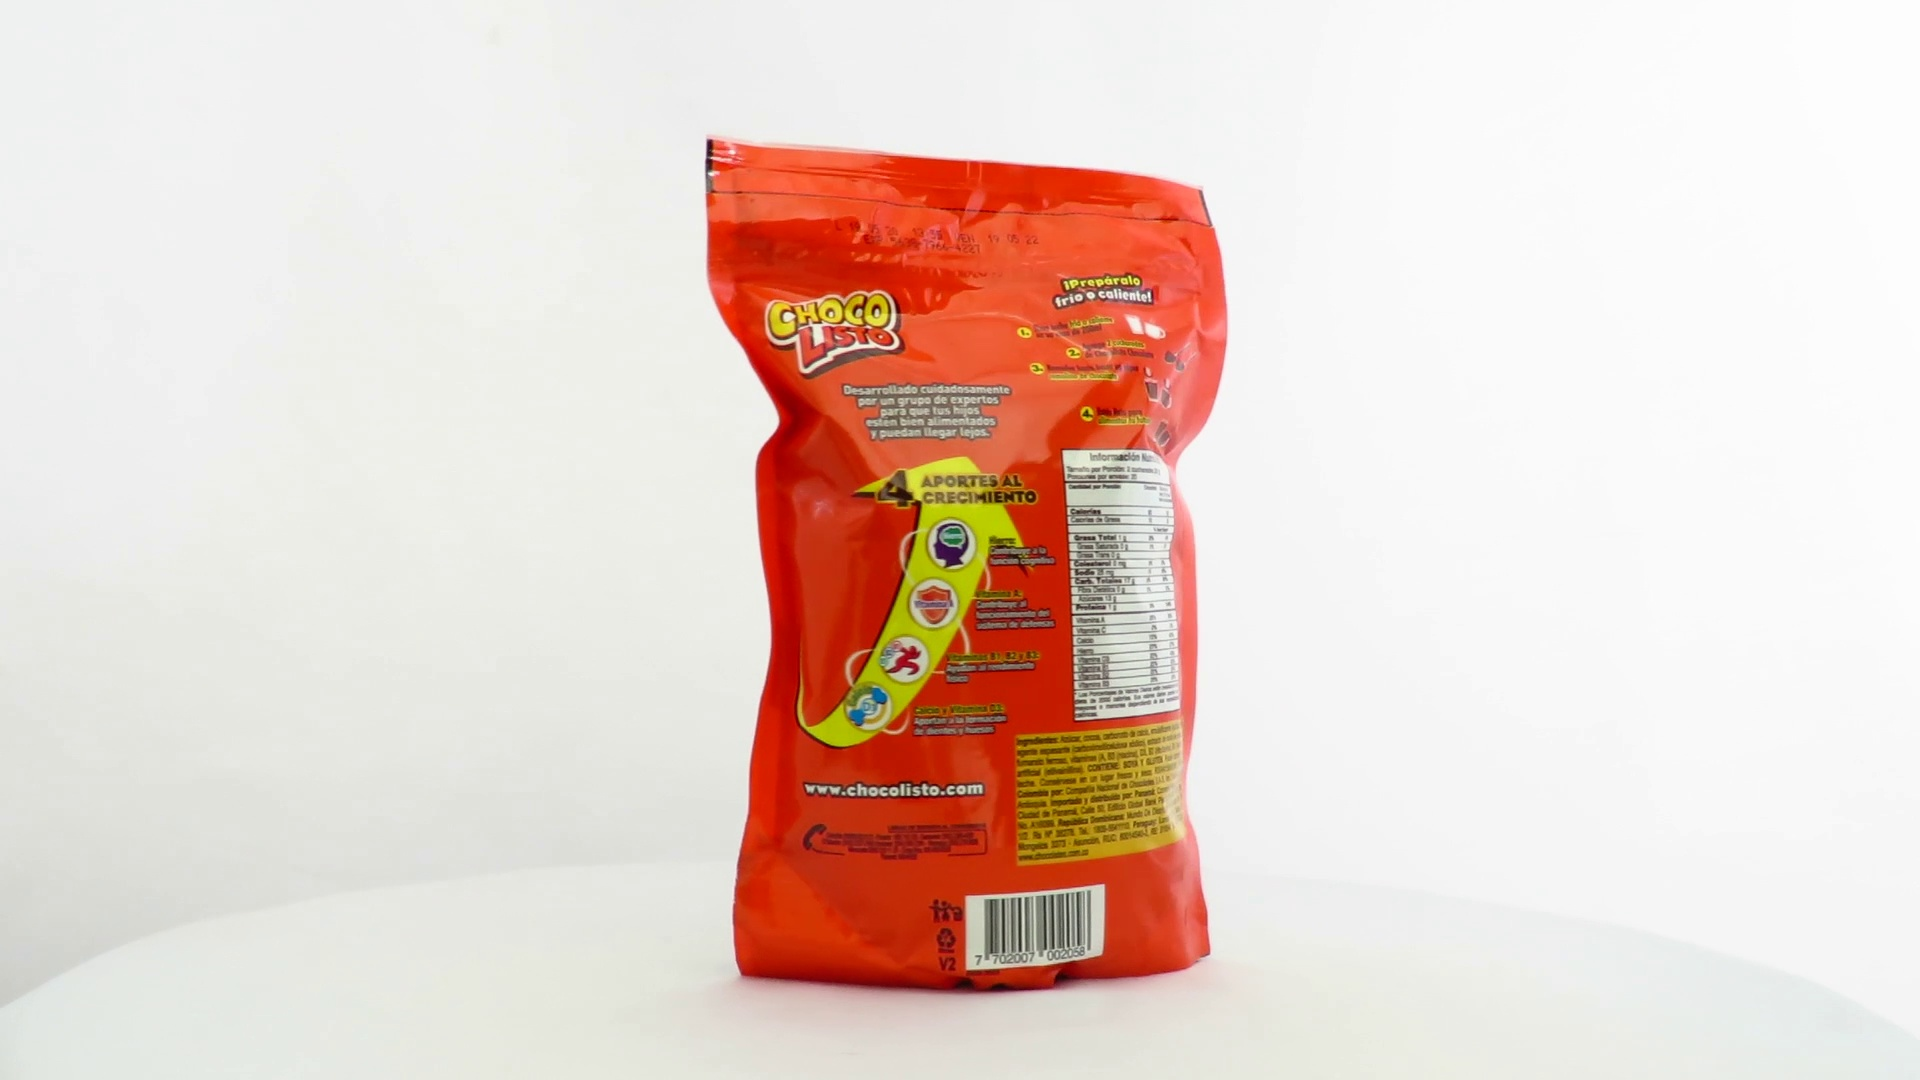COL0170103DYP40000: (700, 135, 1234, 1001)
